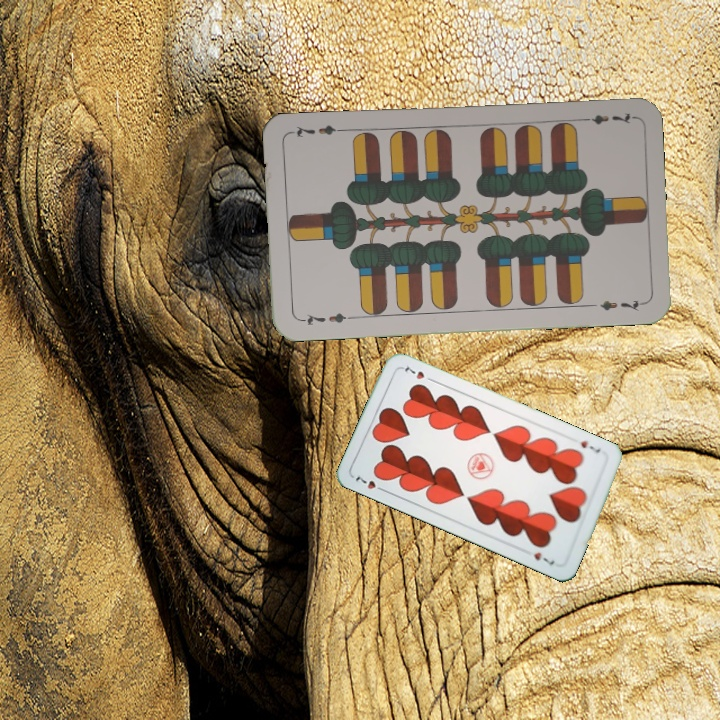E7: (296, 309, 355, 328), (577, 109, 636, 127)
H7: (351, 470, 389, 495), (576, 436, 603, 456)
